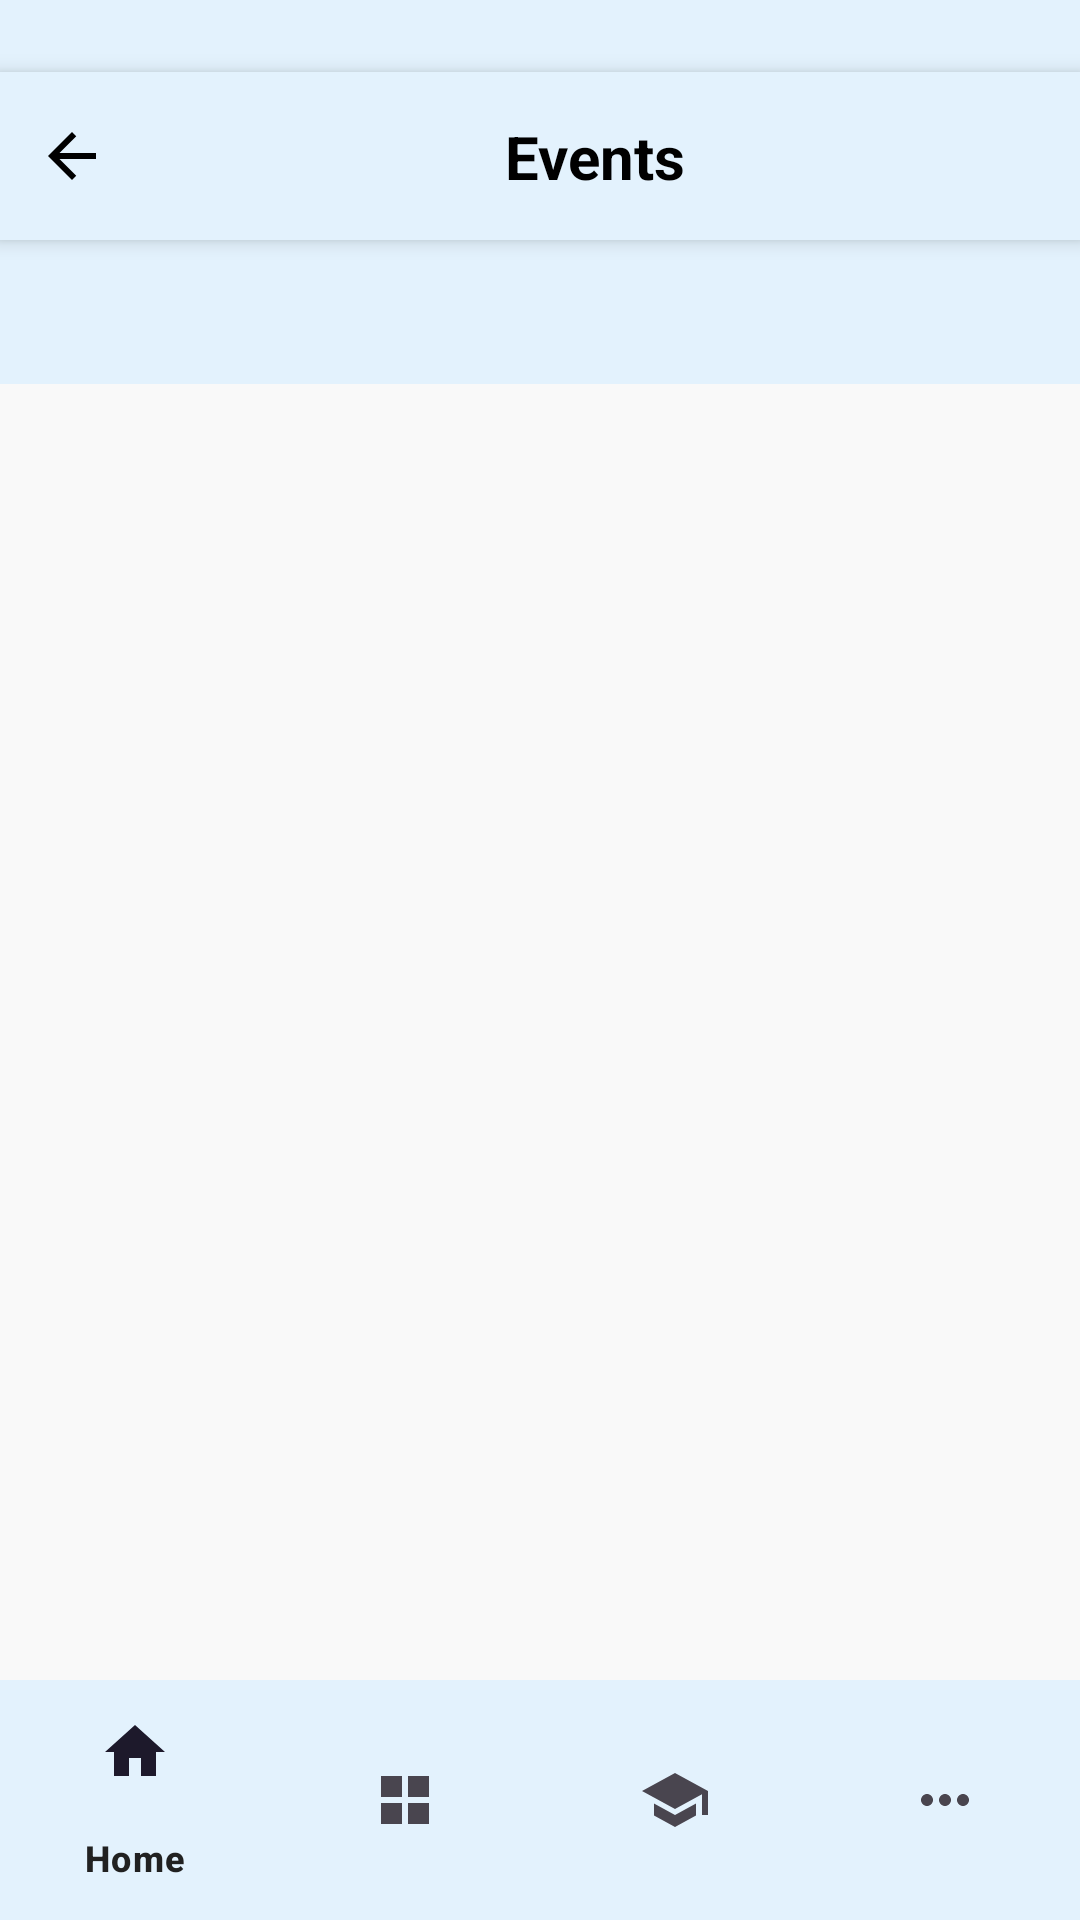

Icons on this 1080 × 1920 Android screen, each with its box as (left=x1, top=y1, right=x2, bottom=y2):
Back: (left=48, top=132, right=96, bottom=180)
